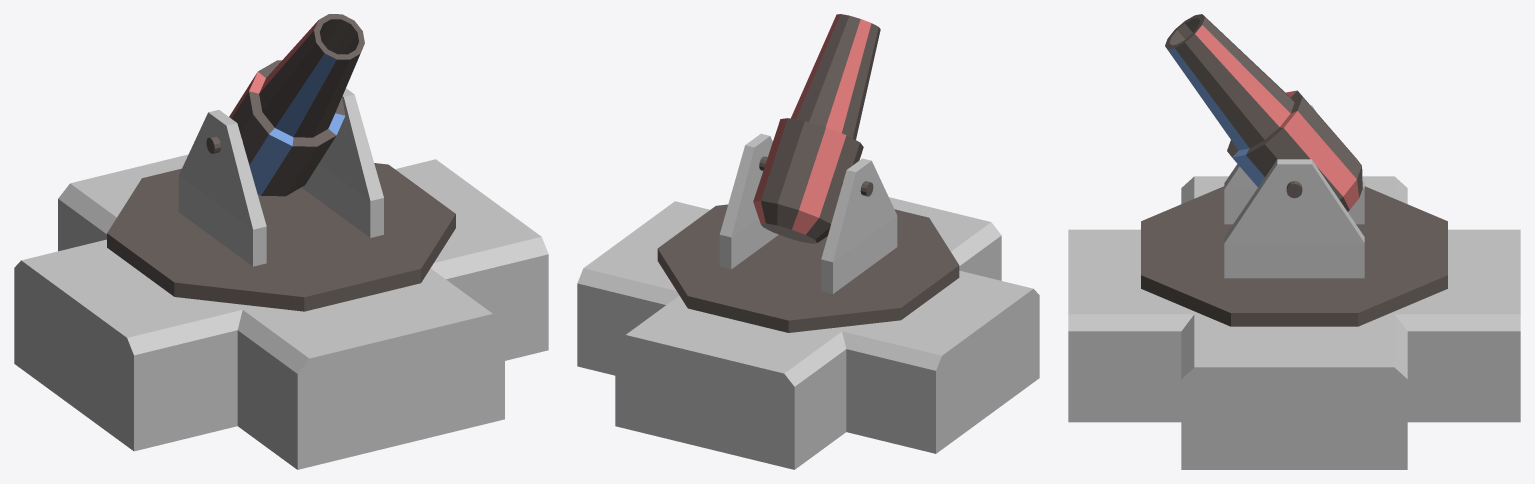
File: MortarTower.fbx
3 renders of one model, left to right at view 1: azimuth 30°, elevation 25°; view 2: azimuth 150°, elevation 25°; view 3: azimuth 270°, elevation 25°, orthographic. The views are drawn at different scales.
Parts seen in each view (by area): view 1: TowerBase, MortarBase, MorterMount, Mortar; view 2: TowerBase, MortarBase, Mortar, MorterMount; view 3: TowerBase, MortarBase, Mortar, MorterMount.
Boxes of the visible parts, x1,y1,x2,y2 form: TowerBase: (14, 154, 548, 469); MortarBase: (107, 163, 455, 311); MorterMount: (178, 88, 383, 266); Mortar: (229, 14, 364, 196); TowerBase: (577, 197, 1039, 469); MortarBase: (657, 204, 959, 332); Mortar: (753, 14, 880, 243); MorterMount: (719, 133, 897, 293); TowerBase: (1068, 176, 1520, 469); MortarBase: (1141, 186, 1447, 326); Mortar: (1165, 14, 1362, 211); MorterMount: (1224, 105, 1364, 278).
Size of the model in its own units: 200 by 174 by 200.
